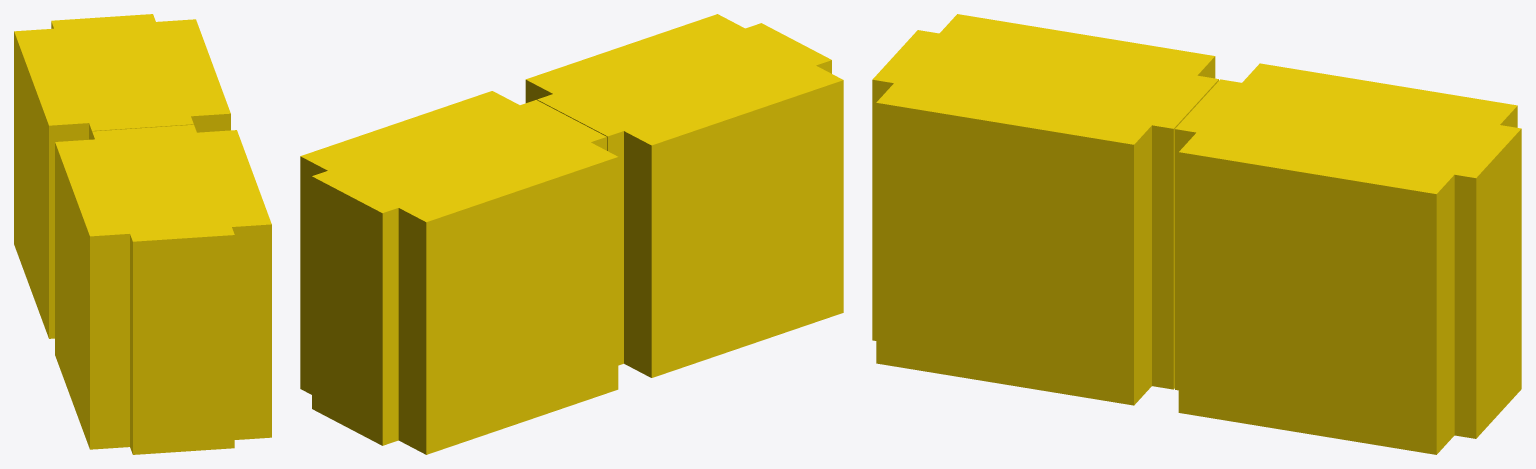
3 views of the same model, side by side, from view 1: azimuth 30°, elevation 25°; view 2: azimuth 150°, elevation 25°; view 3: azimuth 270°, elevation 25° (orthographic). The views are drawn at different scales.
Parts seen in each view (by area): view 1: Cube_6, Cube_7, Cube__1__6, Cube__1__7; view 2: Cube_7, Cube_6, Cube__1__7, Cube__1__6; view 3: Cube_7, Cube_6, Cube__1__7, Cube__1__6.
Part boxes in pixels (x1,y1,x2,y2): Cube_6: (55, 130, 271, 449); Cube_7: (14, 19, 230, 338); Cube__1__6: (92, 124, 234, 454); Cube__1__7: (51, 14, 193, 139); Cube_7: (300, 91, 618, 454); Cube_6: (525, 14, 843, 377); Cube__1__7: (312, 100, 606, 445); Cube__1__6: (537, 23, 831, 365); Cube_7: (1178, 63, 1517, 454); Cube_6: (876, 14, 1215, 405); Cube__1__7: (1175, 79, 1521, 438); Cube__1__6: (872, 30, 1218, 389).
Bounding box in the file's own units: 2613 × 1763 × 3979.
